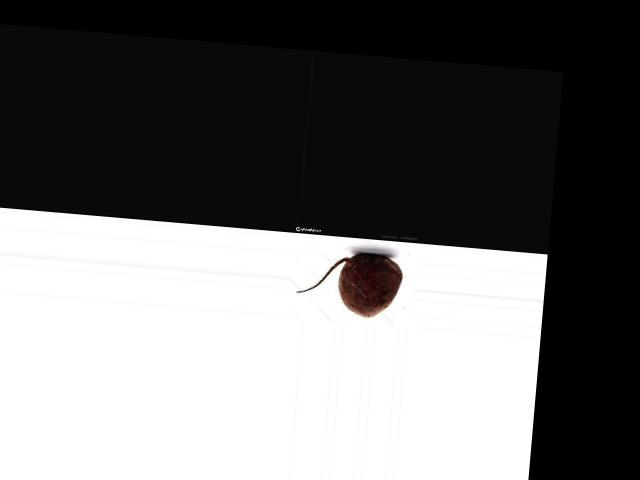beet: (295, 247, 404, 318)
